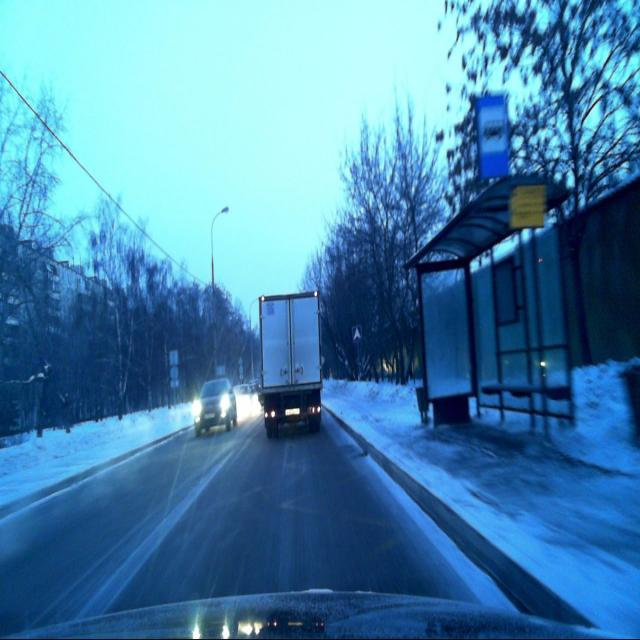road sign: (476, 95, 510, 180), (352, 325, 362, 343)
